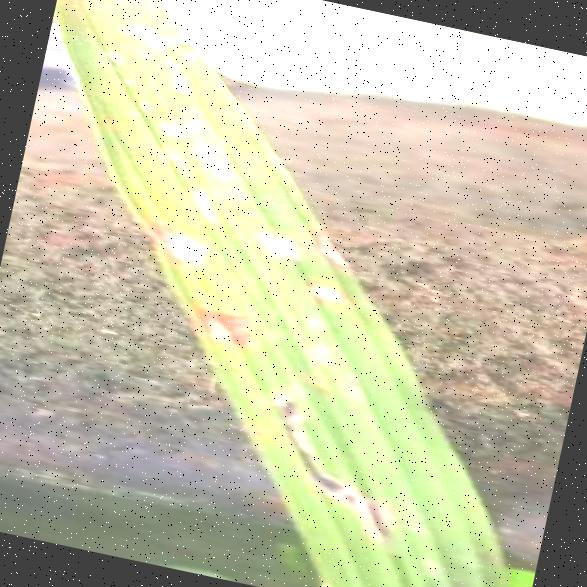Leaf_smut: (226, 367, 444, 551), (225, 189, 383, 290), (126, 192, 233, 290), (177, 276, 276, 352), (273, 258, 356, 320), (107, 0, 180, 63), (170, 158, 234, 226), (145, 136, 206, 187), (142, 101, 196, 149), (154, 52, 205, 94)
